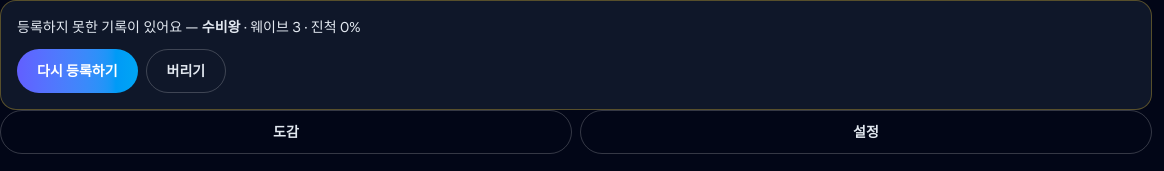
Test: 도감·허브 보조 동작 › 허브 — 등록하지 못한 기록을 다시 등록하면 보관을 지우고 순위를 알린다
The width and height of the screenshot is (1164, 171).
Click the button with test id "defense-pending-retry": (77, 71) [17,49,138,93]
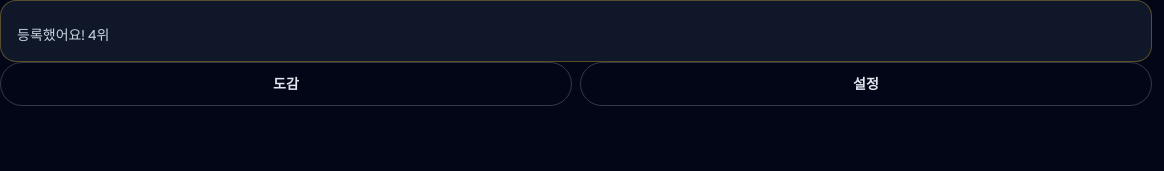
Now the element with test id "defense-pending" shows "4위", box [17,26,109,44]
